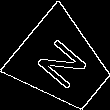N_SE: (31, 33, 94, 96)
